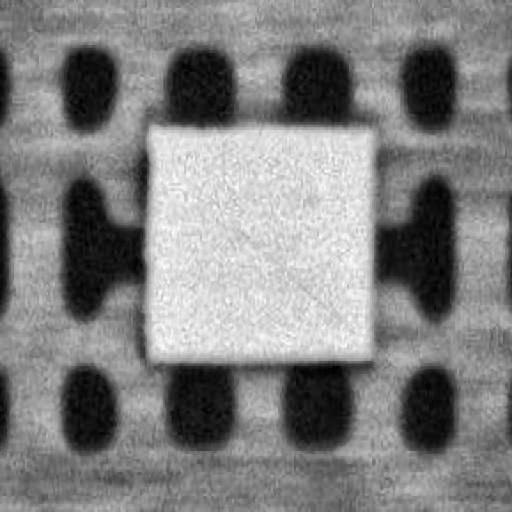DIE_CRACK: (345, 147, 512, 222)
